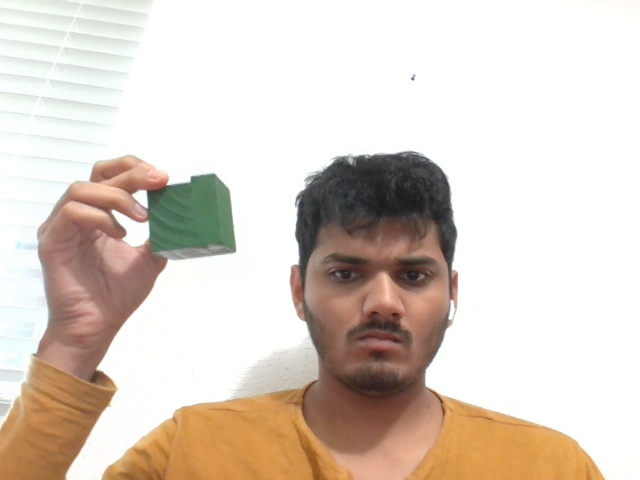GreenBlock: (148, 172, 237, 263)
